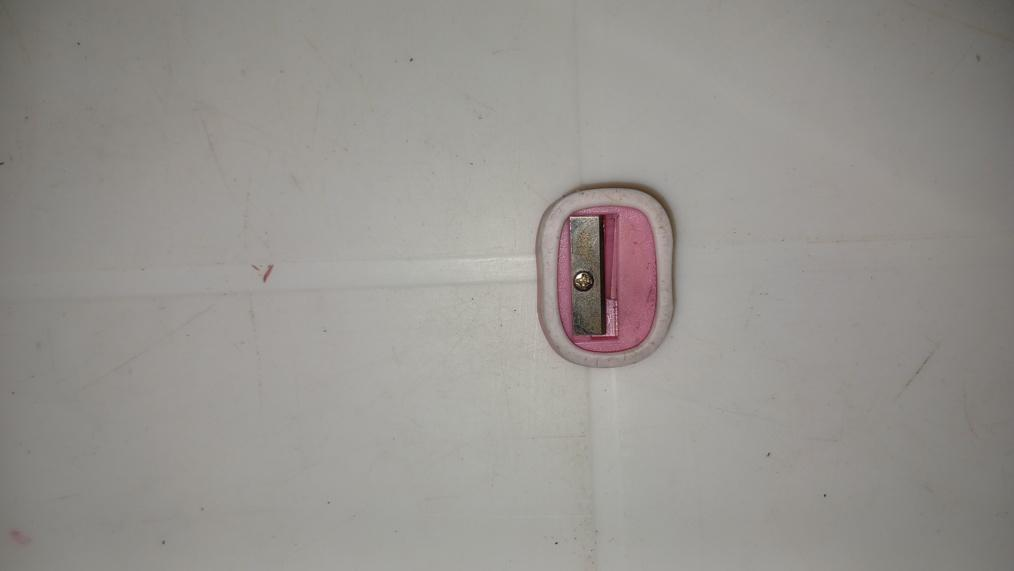Sharpener: (537, 182, 677, 365)
